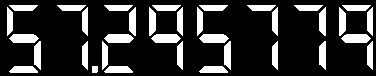dot: (90, 64, 99, 75)
five: (196, 3, 231, 73), (6, 5, 41, 73)
nine: (147, 3, 184, 71), (339, 4, 373, 68)
seven: (55, 3, 88, 71), (245, 5, 279, 69), (292, 4, 326, 68)
two: (102, 4, 137, 74)
